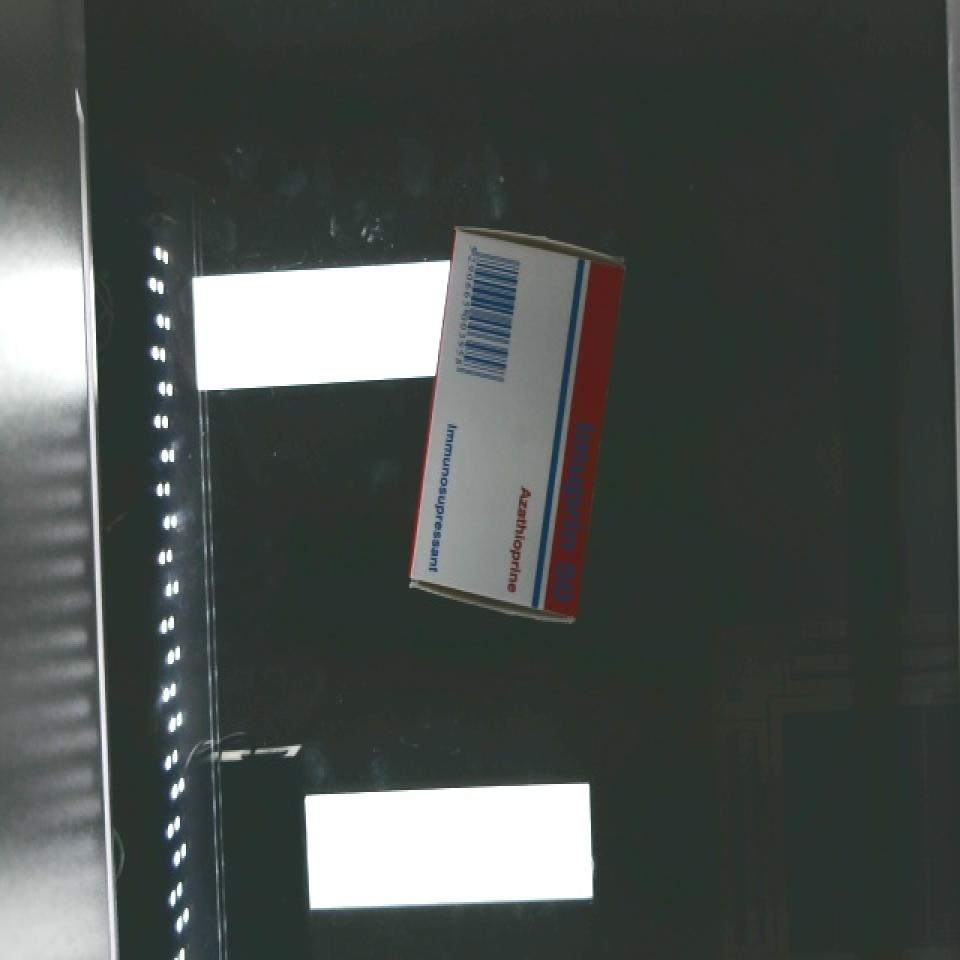medicine_box: (403, 225, 626, 633)
medicine_label_obb: (534, 401, 607, 624)
